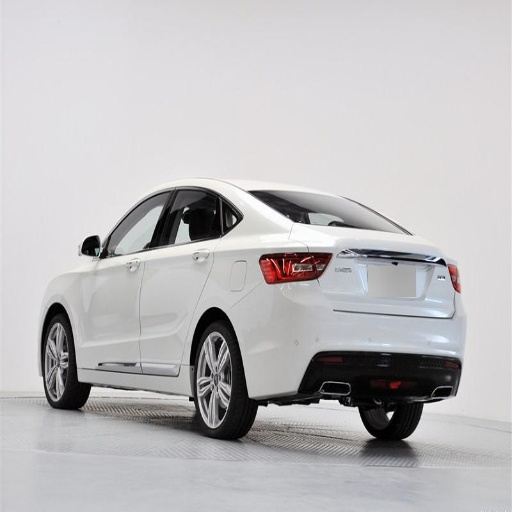back_bumper: (235, 283, 467, 400)
back_glass: (250, 190, 401, 231)
back_left_door: (141, 187, 225, 374)
tailgate: (309, 225, 448, 316)
